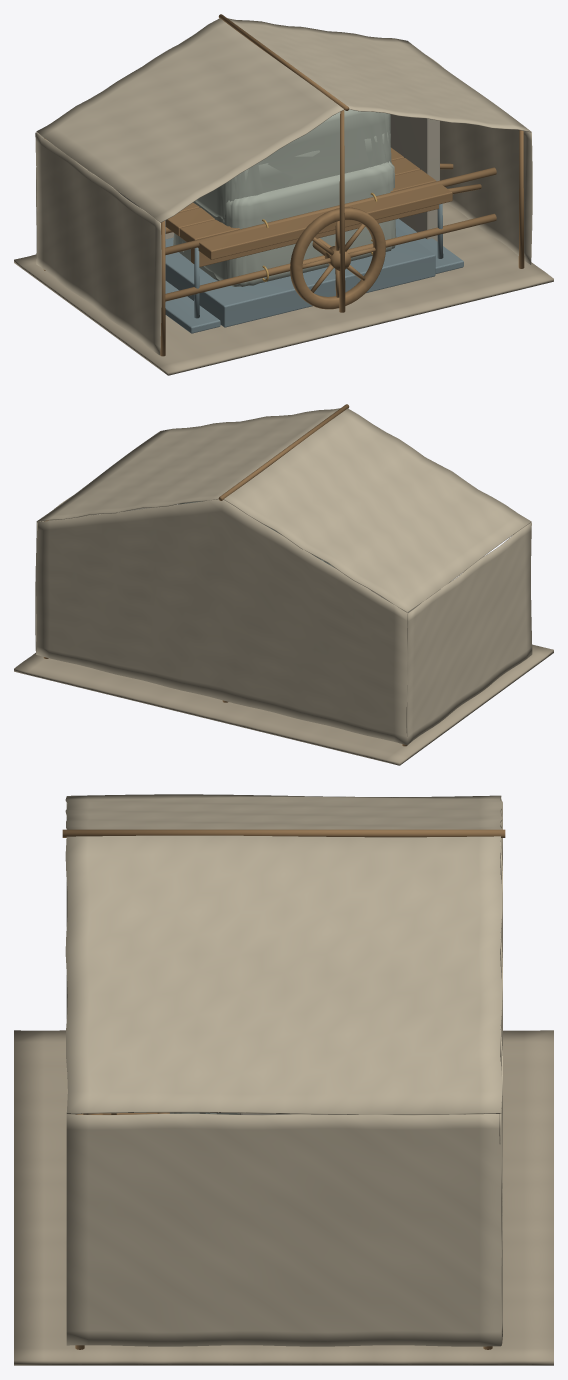
Rendered from david-ark.glb.
3 views of the same model, one above another, from view 1: azimuth 30°, elevation 25°; view 2: azimuth 150°, elevation 25°; view 3: azimuth 270°, elevation 25° (orthographic). The views are drawn at different scales.
Visible parts, largest first — view 1: david-ark-david-selected-tent-canvas, david-ark-david-modern-desk-ground.002, david-ark-david-selected-timber-comparison, david-ark-david-modern-uninscribed-ark-cover.001, david-ark-david-modern-comparison-fixture, david-ark-david-modern-uninscribed-ark-cover, david-ark-david-selected-timber-comparison.002, david-ark-david-original-rough-construction-stone, david-ark-david-modern-comparison-fixture.001, david-ark-david-selected-timber-comparison.001, david-ark-david-modern-uninscribed-ark-cover.002; view 2: david-ark-david-selected-tent-canvas, david-ark-david-modern-desk-ground.002, david-ark-david-selected-timber-comparison.002; view 3: david-ark-david-selected-tent-canvas, david-ark-david-modern-desk-ground.002, david-ark-david-selected-timber-comparison.002.
Part boxes in pixels (bbox=[...]): david-ark-david-selected-tent-canvas: bbox=[35, 18, 532, 355]; david-ark-david-modern-desk-ground.002: bbox=[14, 203, 553, 375]; david-ark-david-selected-timber-comparison: bbox=[165, 147, 481, 309]; david-ark-david-modern-uninscribed-ark-cover.001: bbox=[182, 161, 396, 286]; david-ark-david-modern-comparison-fixture: bbox=[165, 226, 435, 327]; david-ark-david-modern-uninscribed-ark-cover: bbox=[195, 109, 391, 222]; david-ark-david-selected-timber-comparison.002: bbox=[43, 14, 524, 356]; david-ark-david-original-rough-construction-stone: bbox=[114, 114, 439, 302]; david-ark-david-modern-comparison-fixture.001: bbox=[165, 203, 463, 333]; david-ark-david-selected-timber-comparison.001: bbox=[165, 167, 496, 255]; david-ark-david-modern-uninscribed-ark-cover.002: bbox=[193, 131, 390, 223]; david-ark-david-selected-tent-canvas: bbox=[35, 408, 532, 745]; david-ark-david-modern-desk-ground.002: bbox=[14, 644, 553, 765]; david-ark-david-selected-timber-comparison.002: bbox=[43, 404, 407, 746]; david-ark-david-selected-tent-canvas: bbox=[65, 794, 502, 1346]; david-ark-david-modern-desk-ground.002: bbox=[14, 1030, 553, 1365]; david-ark-david-selected-timber-comparison.002: bbox=[62, 829, 505, 1349].
Size of the model in its own units: 1.3 by 0.6817 by 0.9.
